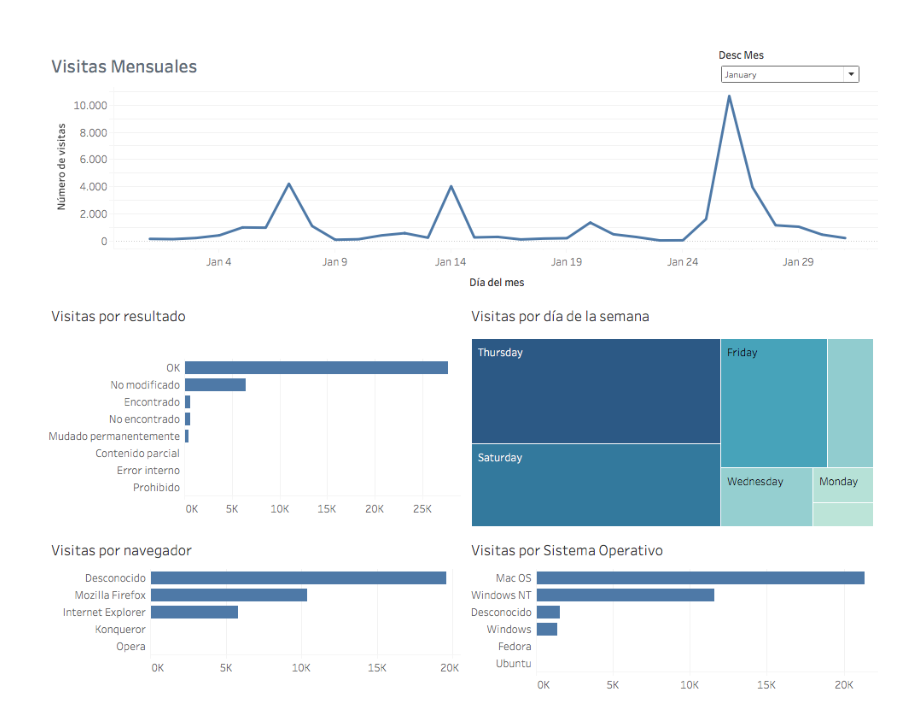

The dashboard page shown, as its layout file describes it:
{"tool":"tableau","page":{"name":"Dashboard mensual","canvas":[1000,800],"ordinal":0},"visuals":[{"type":"worksheet","title":"Visitas mensuales","mark":"Automatic","rows":["id_visita"],"cols":["fecha"],"box":[8,8,984,295]},{"type":"filter","title":"Visitas mensuales","param":"[federated.01202a119xt47q10613x90ay74g6].[none:desc_mes:nk]","box":[798,9,168,52]},{"type":"worksheet","title":"Visitas por resultado","mark":"Automatic","rows":["desc_resultado"],"cols":["id_visita"],"box":[8,303,492,274]},{"type":"worksheet","title":"Visitas por dia de la semana","mark":"Automatic","box":[500,303,492,274]},{"type":"worksheet","title":"Visitas por navegador","mark":"Automatic","rows":["d_navegador"],"cols":["id_visita"],"box":[8,577,492,215]},{"type":"worksheet","title":"Visitas por sistema operativo","mark":"Automatic","rows":["desc_so"],"cols":["id_visita"],"box":[500,577,492,215]}]}

Visuals, with their boxes on the page's 1000x800 design canvas (x1, y1, x2, y2). These are canvas units, not pixel positions in the 921x714 screenshot, which may show the page scaled, cropped or inside an application window:
"Visitas mensuales" worksheet: <bbox>8, 8, 992, 303</bbox>
"Visitas mensuales" filter: <bbox>798, 9, 966, 61</bbox>
"Visitas por resultado" worksheet: <bbox>8, 303, 500, 577</bbox>
"Visitas por dia de la semana" worksheet: <bbox>500, 303, 992, 577</bbox>
"Visitas por navegador" worksheet: <bbox>8, 577, 500, 792</bbox>
"Visitas por sistema operativo" worksheet: <bbox>500, 577, 992, 792</bbox>
